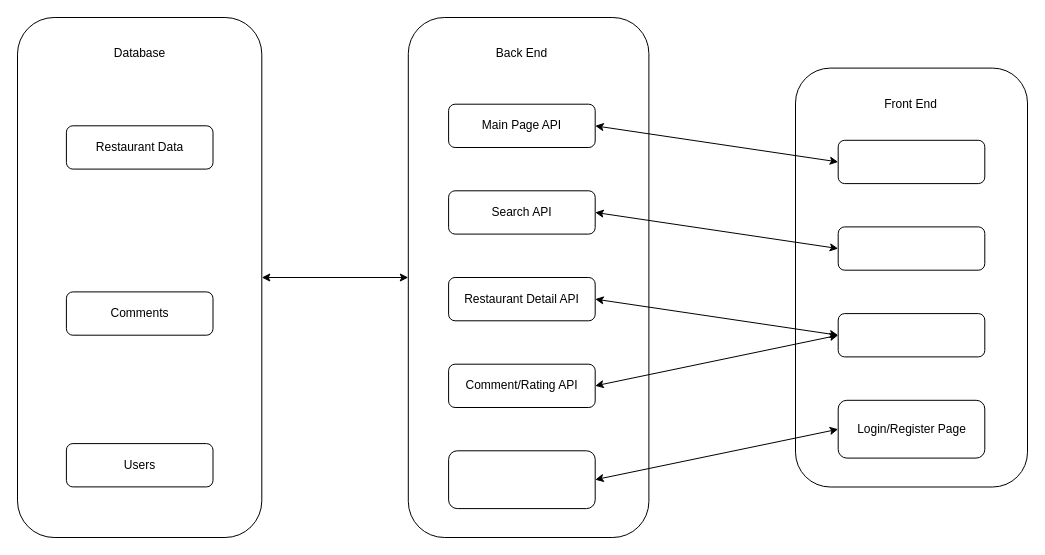
Image size: 1045x555. Some labels were removed from this diagram. The shapes that lost their labels are listed below. From the top down, each one's centre as x and y in pixels, then its label:
At (x=911, y=161): "Main Page".
At (x=911, y=248): "Search Page".
At (x=911, y=335): "Detail Page".
At (x=521, y=479): "Login/Register API".
